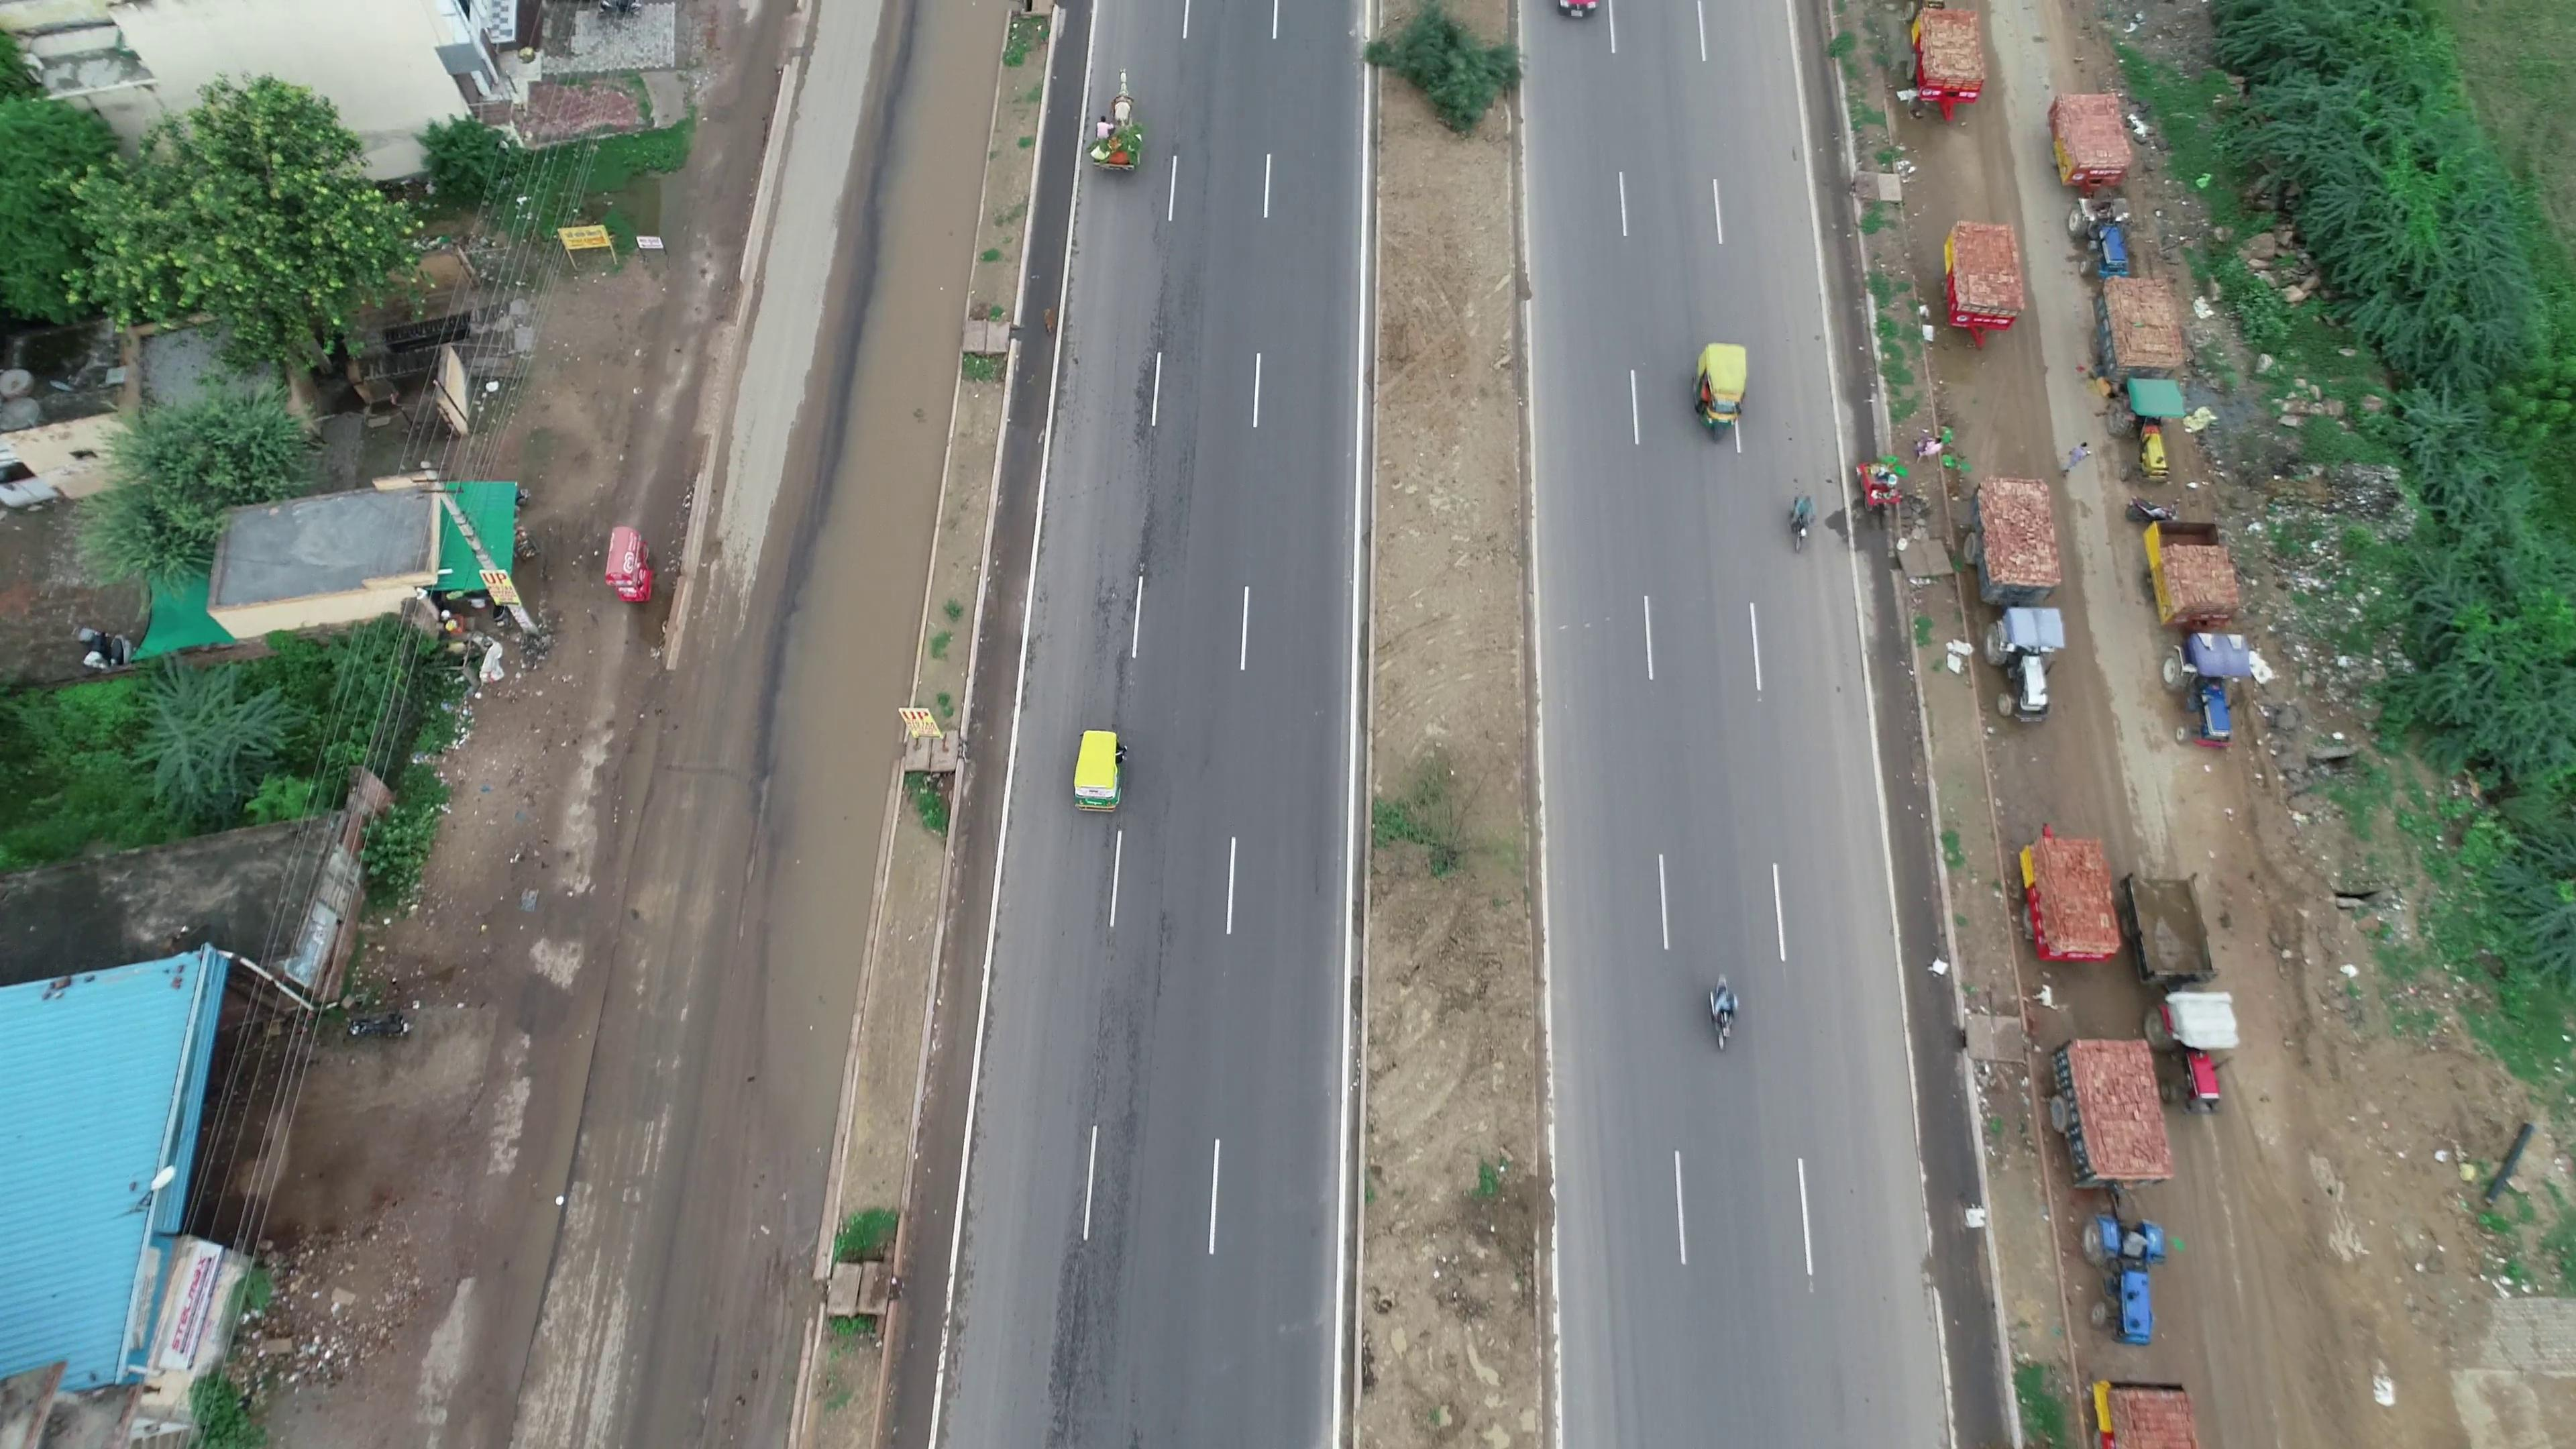Muddy_road: (2192, 1155, 2420, 1440)
Ravelling: (1037, 962, 1161, 1426), (1116, 232, 1210, 538)
Waterlogging: (745, 469, 922, 1076), (833, 5, 1007, 458)
